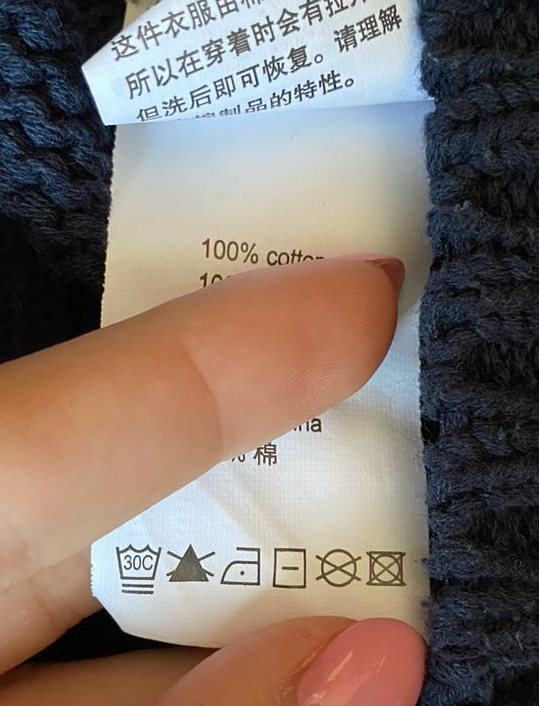do_not_bleach: (164, 541, 217, 585)
do_not_dry_clean: (312, 547, 362, 591), (363, 549, 409, 591)
dry_flat: (269, 545, 308, 591)
ironing_at_low_temp: (219, 544, 263, 587)
wash_at_or_below_30_very_mild_fine_wash: (114, 541, 164, 595)
